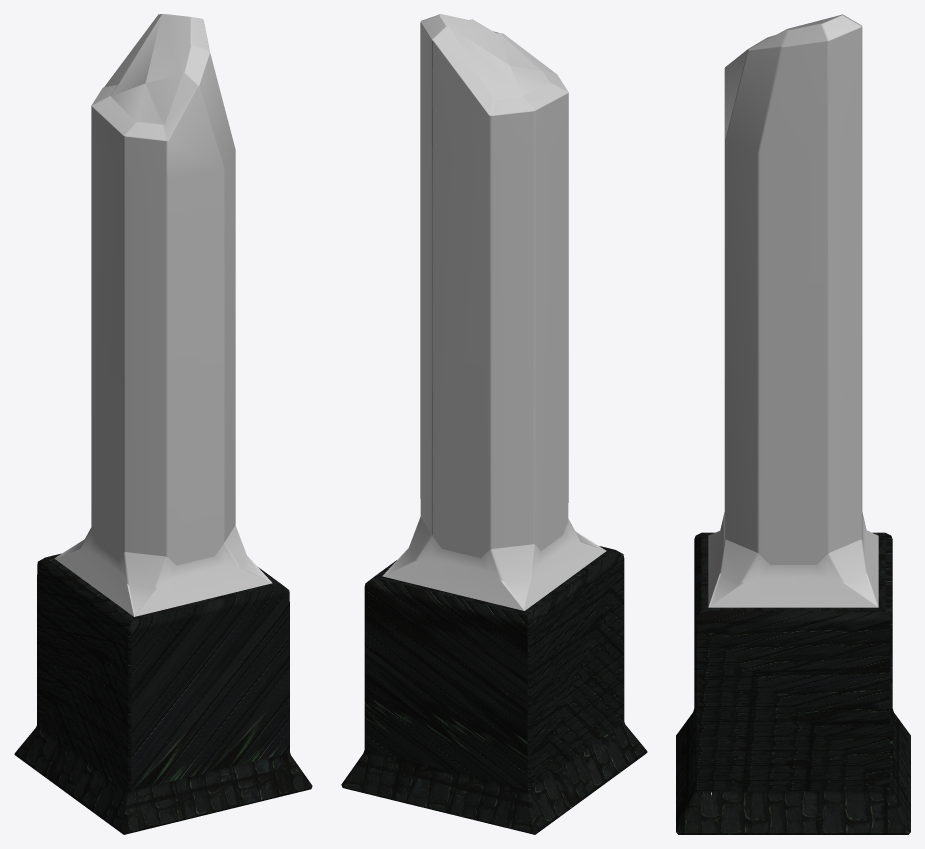
The model's file is PillarBroken.fbx.
3 views of the same model, side by side, from view 1: azimuth 30°, elevation 25°; view 2: azimuth 150°, elevation 25°; view 3: azimuth 270°, elevation 25° (orthographic). The views are drawn at different scales.
Parts seen in each view (by area): view 1: Pillar; view 2: Pillar; view 3: Pillar.
Boxes of the visible parts, x1=… form: Pillar: x1=14, y1=14, x2=312, y2=834; Pillar: x1=341, y1=14, x2=647, y2=834; Pillar: x1=676, y1=14, x2=910, y2=834.
Bounding box in the file's own units: 1.18 × 4.35 × 1.18.
